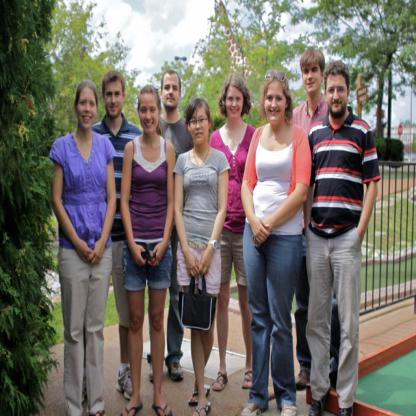face: (265, 82, 287, 124), (327, 74, 348, 116), (140, 94, 160, 133), (78, 88, 97, 129), (105, 79, 124, 118), (191, 106, 209, 145), (163, 74, 180, 108), (227, 86, 244, 119), (303, 65, 322, 94)
